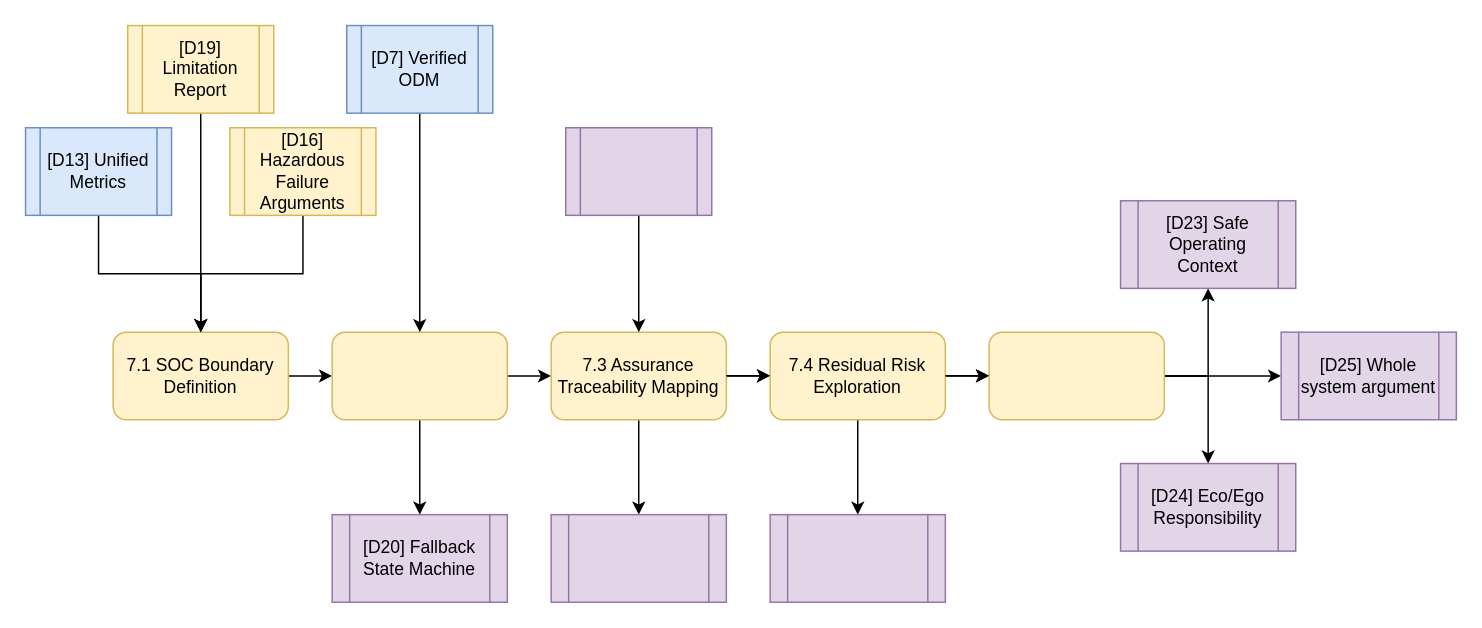
Some shapes in this 1482 by 628 pixel diagram are drawn without their labels. Here are the shapes that lost their labels. From the top down, the centre of each, then its label:
point (638, 170): [D17] AS Development Log
point (419, 375): 7.2 State and Mode Consolidation
point (1076, 375): 7.5 Safe Operating Context
point (638, 557): [D21] Verified AS
point (857, 557): [D22] Operational Boundary Model
